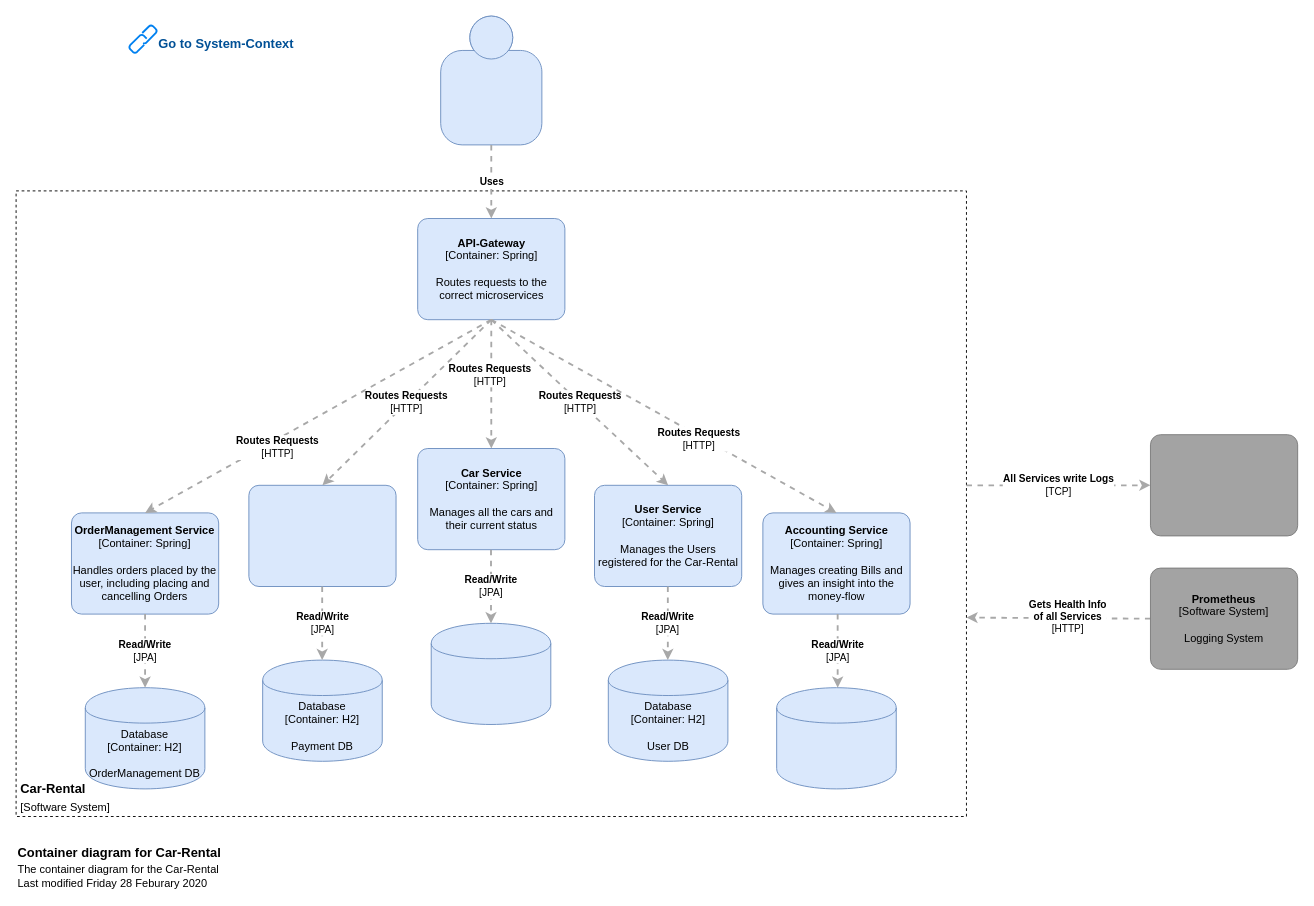
This 1314x906 diagram has some shape labels left out. Each missing label, with the centre of its shape:
"Car-Rental User [Person] A customer of the Car-Rental" goes at point 491,80.
"Database [Container: H2] Accounting DB" goes at point 836,738.
"Database [Container: H2] Car DB" goes at point 490,673.
"Logstash & Elasticsearch [Software System] System used for Logging" goes at point 1224,485.
"Payment Service [Container: Spring ] Provides (simulated) payment Methods" goes at point 322,535.
